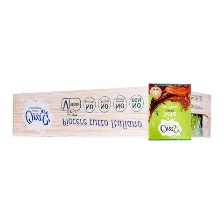carton: (144, 79, 194, 144)
